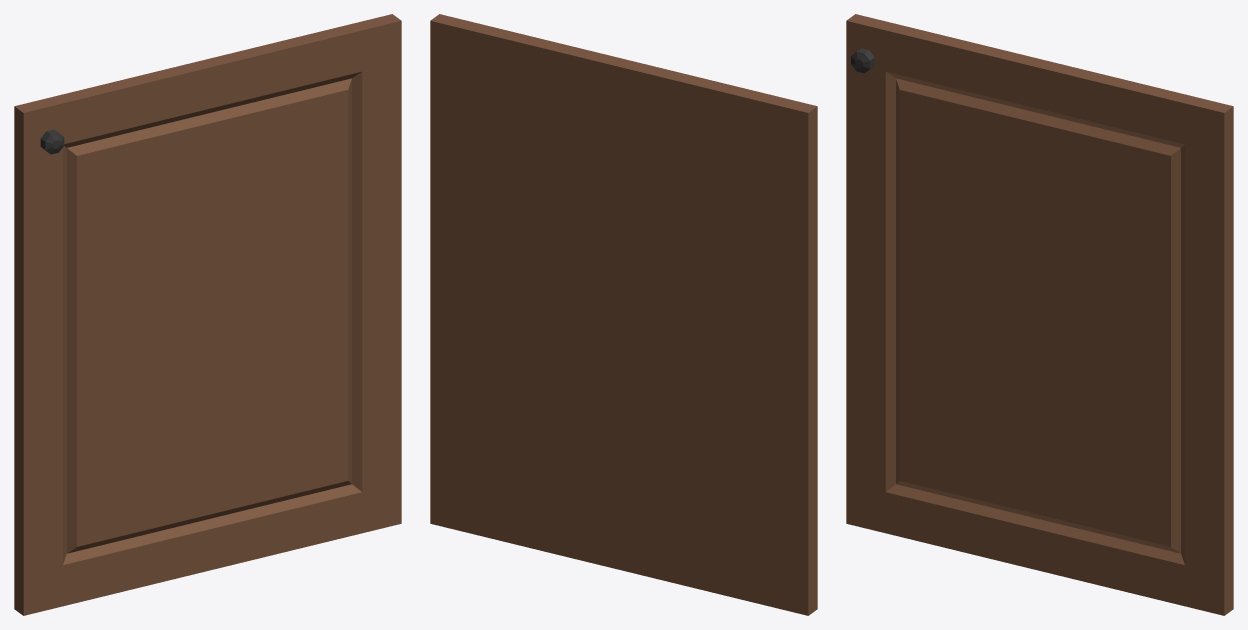
The model's file is Door3_C2_01.fbx.
3 renders of one model, left to right at view 1: azimuth 30°, elevation 25°; view 2: azimuth 150°, elevation 25°; view 3: azimuth 330°, elevation 25°, orthographic.
Parts seen in each view (by area): view 1: Door3_C2_01; view 2: Door3_C2_01; view 3: Door3_C2_01.
Boxes of the visible parts, x1,y1,x2,y2 form: Door3_C2_01: (14, 14, 401, 615); Door3_C2_01: (430, 14, 817, 615); Door3_C2_01: (846, 14, 1233, 615).
Bounding box in the file's own units: 59 × 75 × 5.19.
